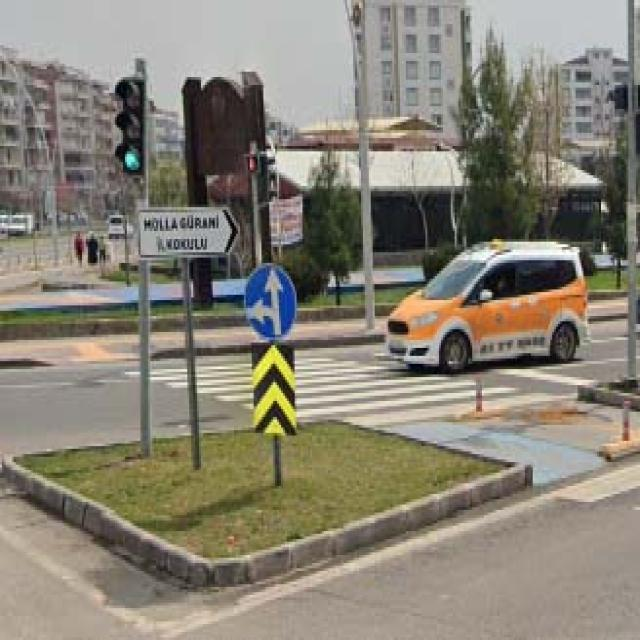ilerisol: (244, 263, 296, 340)
yesil: (117, 77, 146, 173)
